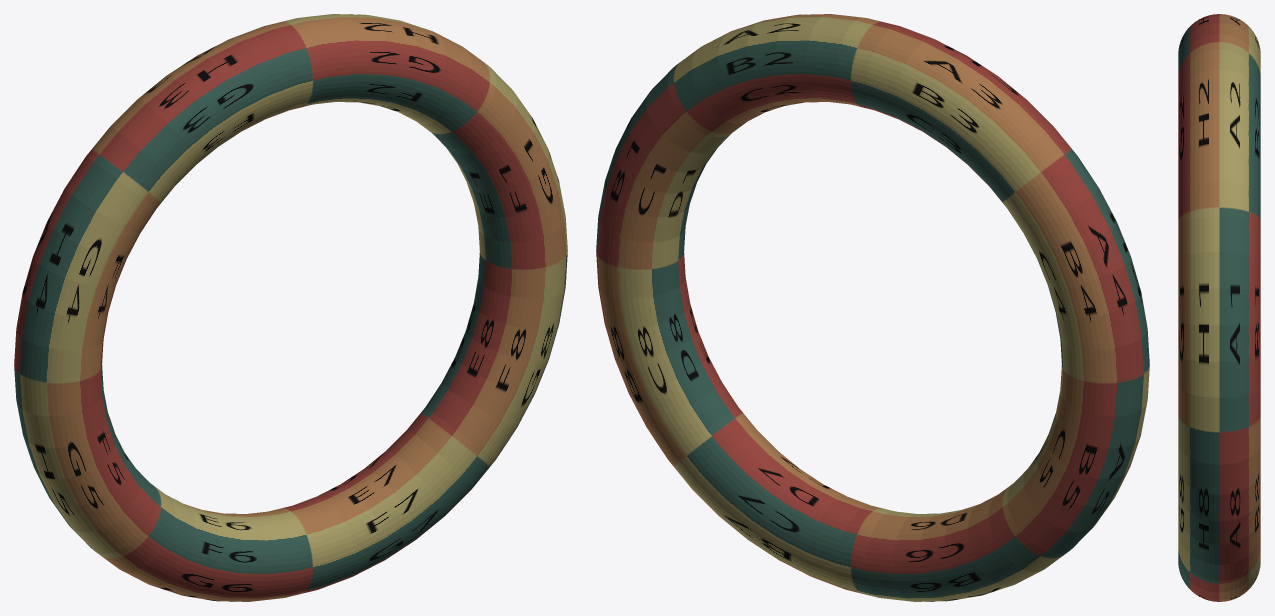
The model's file is texture_torus_R18_r6.glb.
The picture shows the model from 3 angles, left to right: view 1: azimuth 30°, elevation 25°; view 2: azimuth 150°, elevation 25°; view 3: azimuth 270°, elevation 25°; orthographic projection. The views are drawn at different scales.
Visible parts, largest first — view 1: world; view 2: world; view 3: world.
Boxes of the visible parts, box(x1,y1,x2,y2) form: world: box(14, 14, 567, 601); world: box(596, 14, 1149, 601); world: box(1178, 14, 1260, 601).
Bounding box in the file's own units: 25.6 × 25.55 × 3.59.
1 material, 1 textured.
